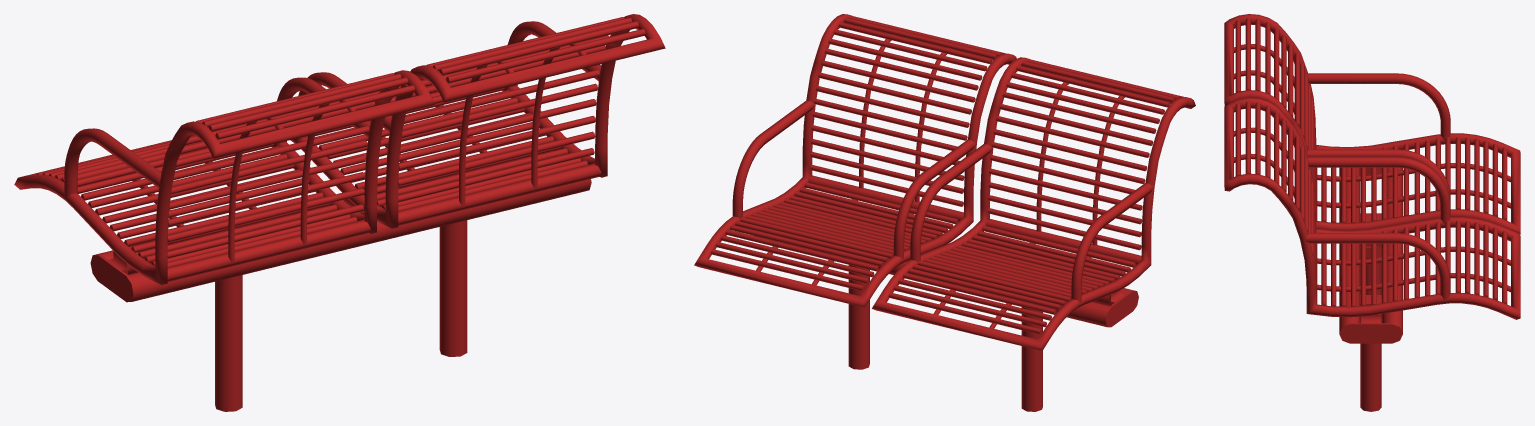
3 renders of one model, left to right at view 1: azimuth 30°, elevation 25°; view 2: azimuth 150°, elevation 25°; view 3: azimuth 270°, elevation 25°, orthographic. The views are drawn at different scales.
Visible parts, largest first — view 1: mesh24_mesh24-geometry, mesh33_mesh33-geometry, mesh7_mesh7-geometry, mesh32_mesh32-geometry, mesh1_mesh1-geometry, mesh40_mesh40-geometry, mesh11_mesh11-geometry, mesh4_mesh4-geometry; view 2: mesh24_mesh24-geometry, mesh33_mesh33-geometry, mesh40_mesh40-geometry, mesh7_mesh7-geometry, mesh32_mesh32-geometry, mesh11_mesh11-geometry, mesh1_mesh1-geometry, mesh4_mesh4-geometry; view 3: mesh24_mesh24-geometry, mesh33_mesh33-geometry, mesh40_mesh40-geometry, mesh1_mesh1-geometry, mesh10_mesh10-geometry, mesh7_mesh7-geometry, mesh4_mesh4-geometry, mesh11_mesh11-geometry.
Part boxes in pixels (left/top/right/bottom): mesh24_mesh24-geometry: left=36, top=17, right=645, bottom=267; mesh33_mesh33-geometry: left=14, top=14, right=665, bottom=284; mesh7_mesh7-geometry: left=215, top=220, right=467, bottom=411; mesh32_mesh32-geometry: left=167, top=163, right=601, bottom=281; mesh1_mesh1-geometry: left=96, top=179, right=588, bottom=301; mesh40_mesh40-geometry: left=64, top=21, right=601, bottom=196; mesh11_mesh11-geometry: left=228, top=43, right=586, bottom=262; mesh4_mesh4-geometry: left=90, top=179, right=591, bottom=302; mesh24_mesh24-geometry: left=710, top=16, right=1179, bottom=334; mesh33_mesh33-geometry: left=694, top=14, right=1195, bottom=350; mesh40_mesh40-geometry: left=732, top=100, right=1153, bottom=303; mesh7_mesh7-geometry: left=848, top=265, right=1042, bottom=411; mesh32_mesh32-geometry: left=808, top=175, right=1141, bottom=264; mesh11_mesh11-geometry: left=859, top=34, right=1134, bottom=245; mesh1_mesh1-geometry: left=756, top=236, right=1133, bottom=326; mesh4_mesh4-geometry: left=1104, top=290, right=1138, bottom=327; mesh24_mesh24-geometry: left=1235, top=17, right=1507, bottom=306; mesh33_mesh33-geometry: left=1224, top=14, right=1520, bottom=319; mesh40_mesh40-geometry: left=1305, top=73, right=1450, bottom=299; mesh1_mesh1-geometry: left=1339, top=167, right=1402, bottom=331; mesh10_mesh10-geometry: left=1317, top=163, right=1510, bottom=292; mesh7_mesh7-geometry: left=1360, top=213, right=1381, bottom=411; mesh4_mesh4-geometry: left=1339, top=167, right=1402, bottom=343; mesh11_mesh11-geometry: left=1233, top=44, right=1294, bottom=198.
Bounding box in the file's own units: 0.6819 × 0.5202 × 0.5143.
